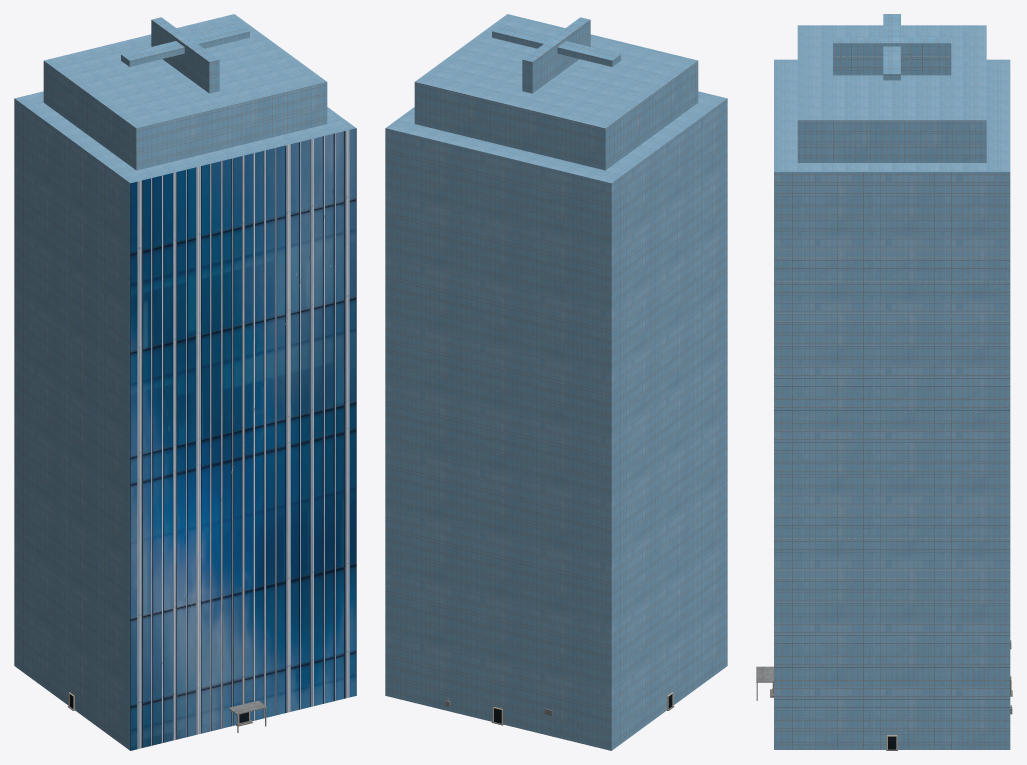
Rendered from aurelia-hq_lod0.gltf.
3 views of the same model, side by side, from view 1: azimuth 30°, elevation 25°; view 2: azimuth 150°, elevation 25°; view 3: azimuth 270°, elevation 25° (orthographic).
Parts seen in each view (by area): view 1: aurelia-hq_front, aurelia-hq_tier0, aurelia-hq_tier1, aurelia-hq_crown; view 2: aurelia-hq_tier0, aurelia-hq_tier1, aurelia-hq_crown; view 3: aurelia-hq_tier0, aurelia-hq_tier1, aurelia-hq_crown.
Part boxes in pixels (x1,y1,x2,y2): aurelia-hq_front: (130, 128, 356, 750); aurelia-hq_tier0: (14, 91, 355, 750); aurelia-hq_tier1: (43, 14, 327, 170); aurelia-hq_crown: (121, 17, 249, 93); aurelia-hq_tier0: (385, 91, 727, 750); aurelia-hq_tier1: (414, 14, 698, 170); aurelia-hq_crown: (492, 17, 620, 93); aurelia-hq_tier0: (774, 59, 1010, 749); aurelia-hq_tier1: (797, 25, 986, 162); aurelia-hq_crown: (833, 14, 951, 80).
Bounding box in the file's own units: 45.8 × 122 × 43.4.
